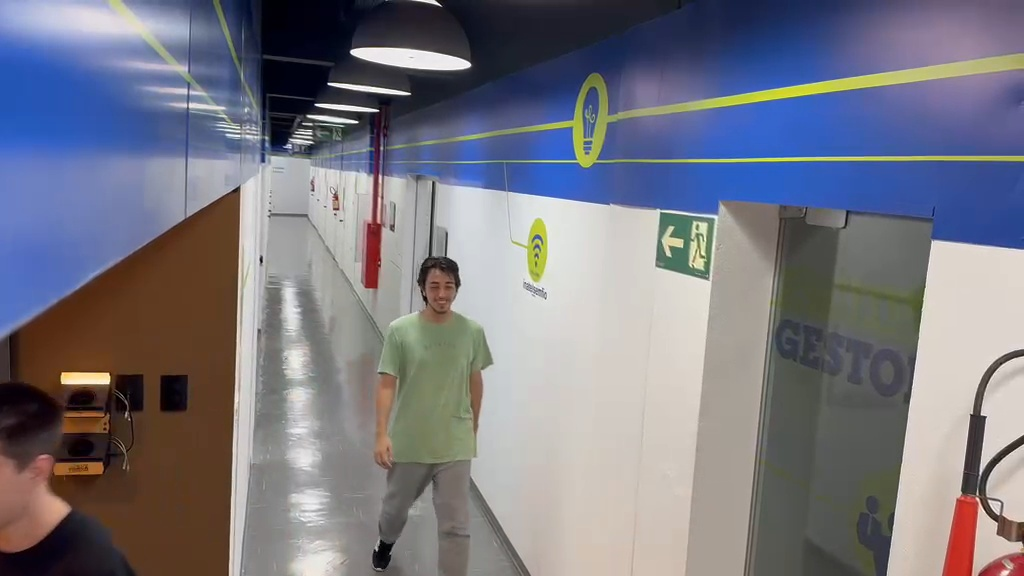person: (370, 254, 492, 572), (0, 381, 137, 571)
